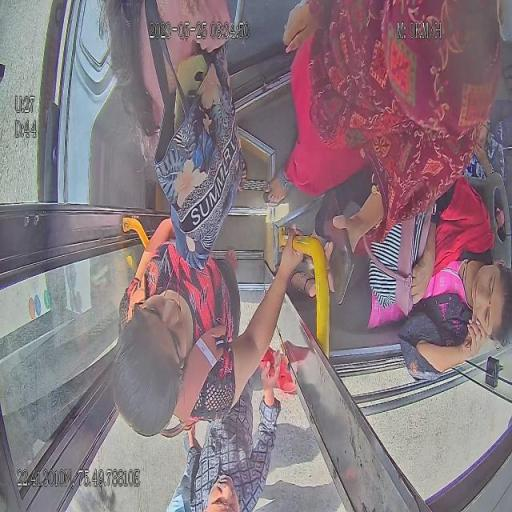persona: (261, 0, 503, 298), (289, 172, 511, 383), (111, 221, 312, 439), (88, 0, 246, 272), (165, 346, 283, 511)
